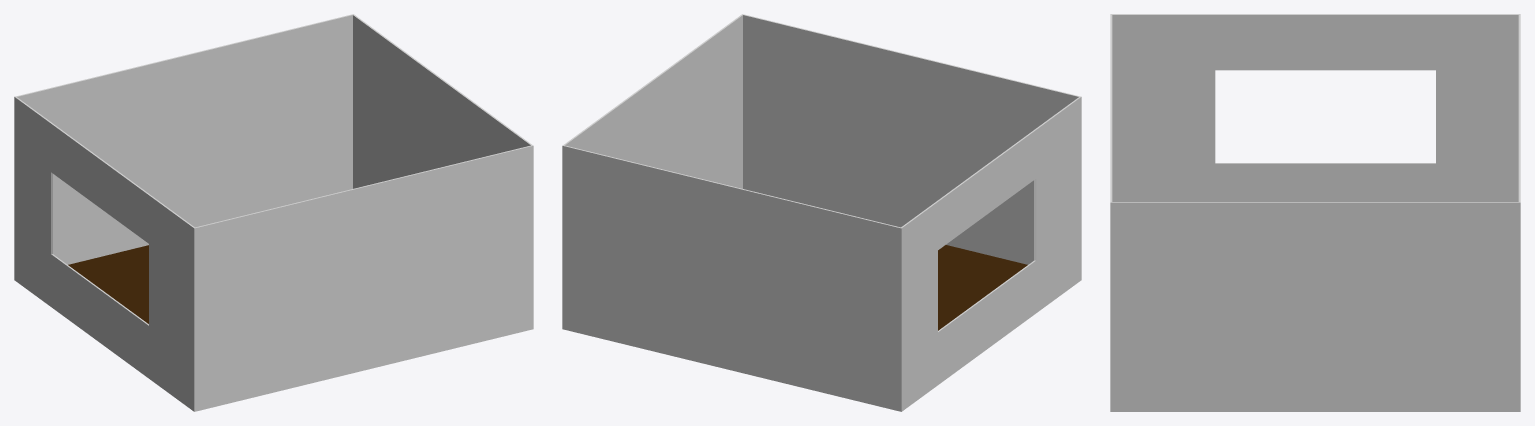
Rendered from floor 2.FBX.
3 renders of one model, left to right at view 1: azimuth 30°, elevation 25°; view 2: azimuth 150°, elevation 25°; view 3: azimuth 270°, elevation 25°, orthographic. The views are drawn at different scales.
Parts seen in each view (by area): view 1: floor; view 2: floor; view 3: floor.
Boxes of the visible parts, x1,y1,x2,y2 form: floor: (14, 14, 533, 411); floor: (562, 14, 1081, 411); floor: (1110, 14, 1520, 411).
Bounding box in the file's own units: 315 × 163 × 289.
